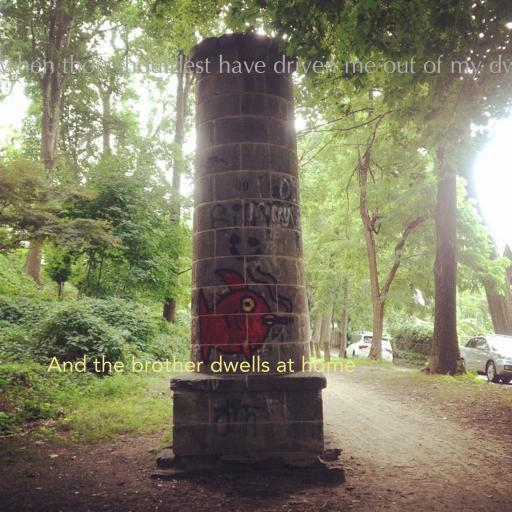Avenir: (46, 355, 356, 373)
Optima: (0, 54, 512, 80)
